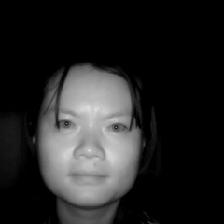normal: (27, 41, 158, 214)
